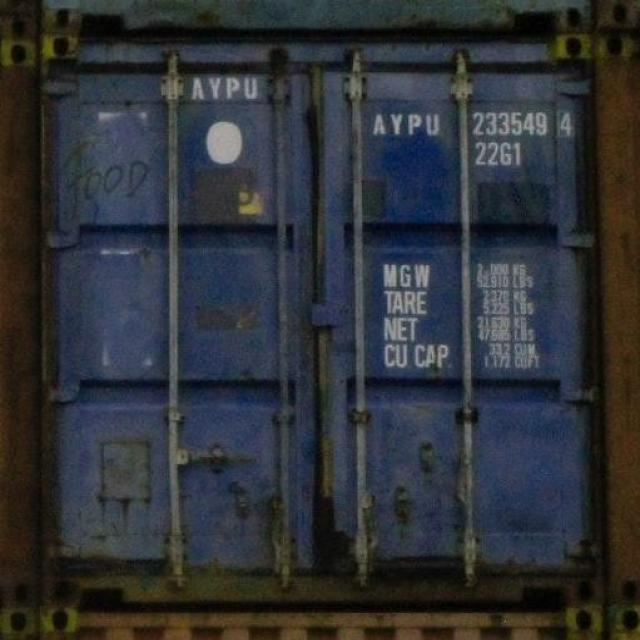ISO: (478, 142, 522, 170)
container_number: (376, 106, 564, 140)
